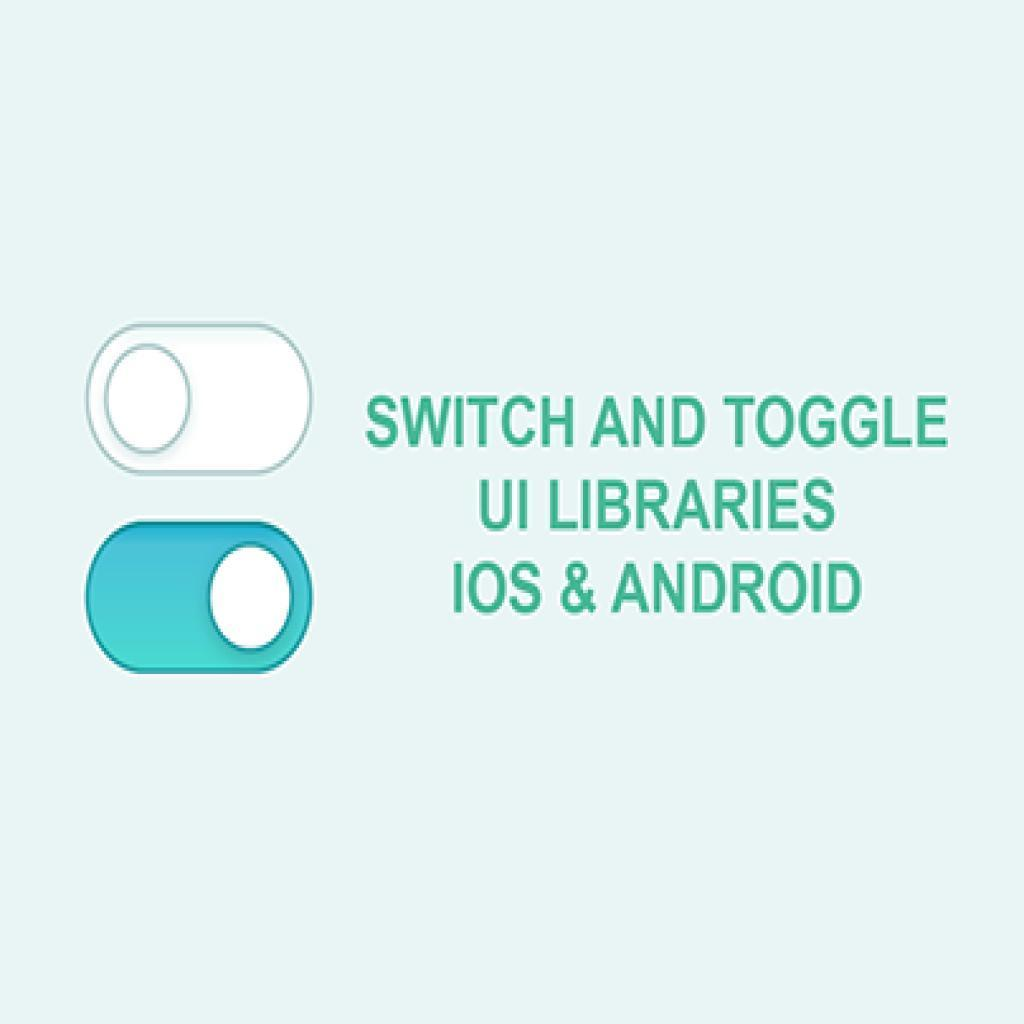switch: (81, 521, 316, 677), (81, 323, 316, 477)
